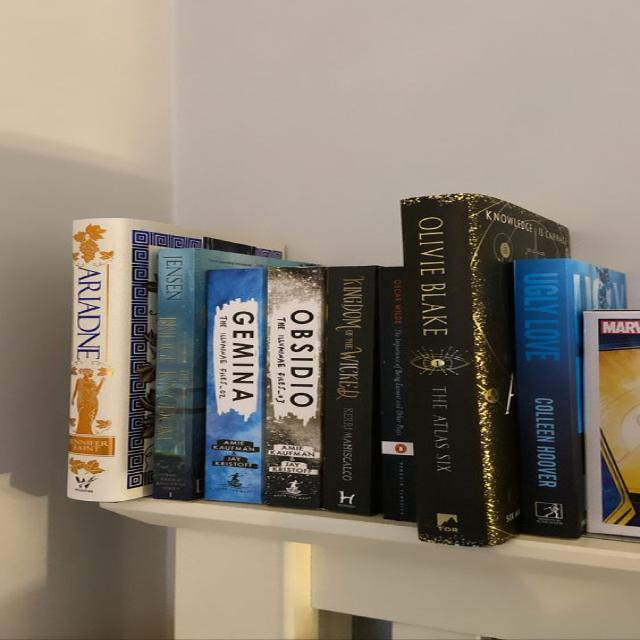book: (404, 193, 501, 544), (515, 259, 581, 535), (72, 218, 136, 501), (267, 266, 326, 507), (331, 266, 382, 512), (160, 251, 208, 501), (211, 269, 261, 501), (378, 267, 416, 522)
